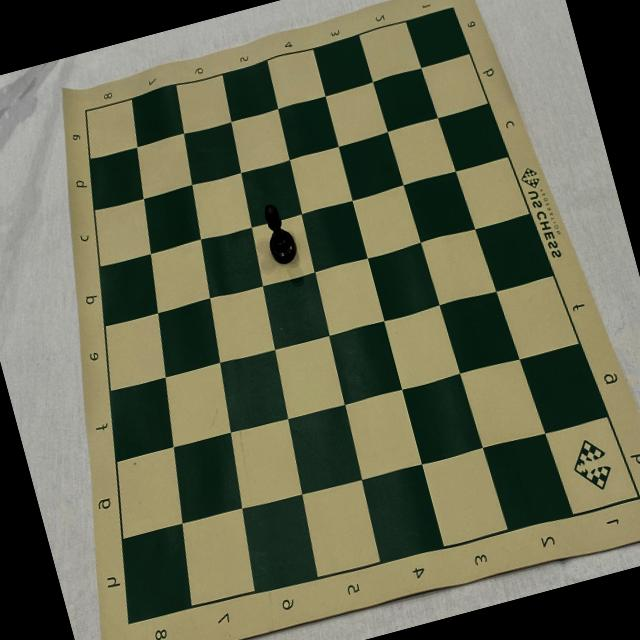black-pawn: (258, 199, 300, 267)
